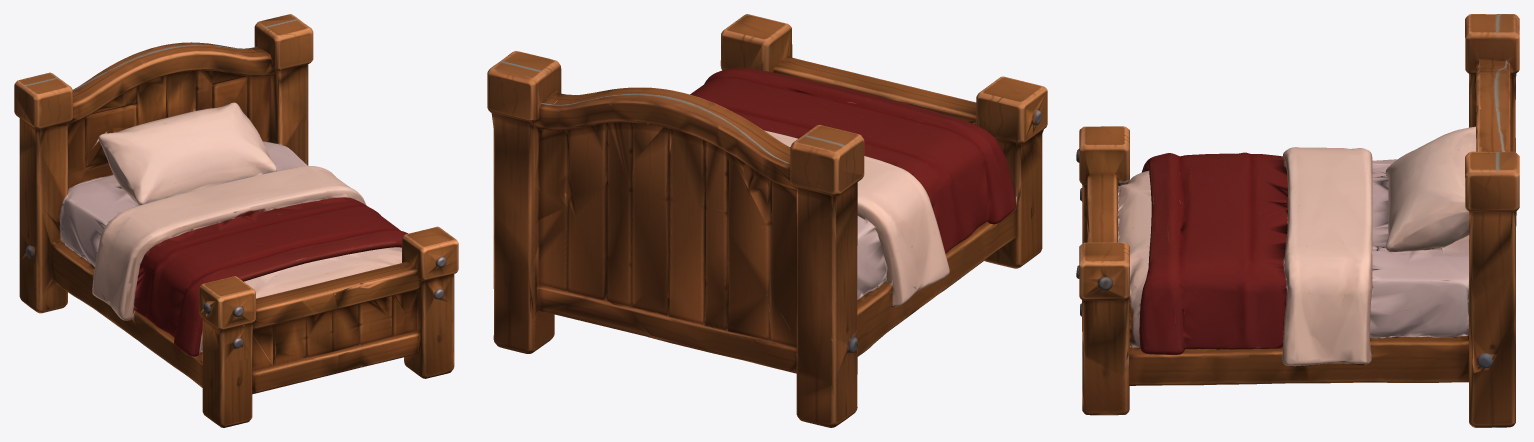
File: Bed.glb
The picture shows the model from 3 angles, left to right: view 1: azimuth 30°, elevation 25°; view 2: azimuth 150°, elevation 25°; view 3: azimuth 270°, elevation 25°; orthographic projection. The views are drawn at different scales.
Parts seen in each view (by area): view 1: output_unwrapped; view 2: output_unwrapped; view 3: output_unwrapped.
Boxes of the visible parts, x1,y1,x2,y2 form: output_unwrapped: [14, 14, 458, 427]; output_unwrapped: [487, 14, 1047, 427]; output_unwrapped: [1076, 14, 1519, 427].
Size of the model in its own units: 1.62 by 1.25 by 1.9.
1 material, 1 textured.
